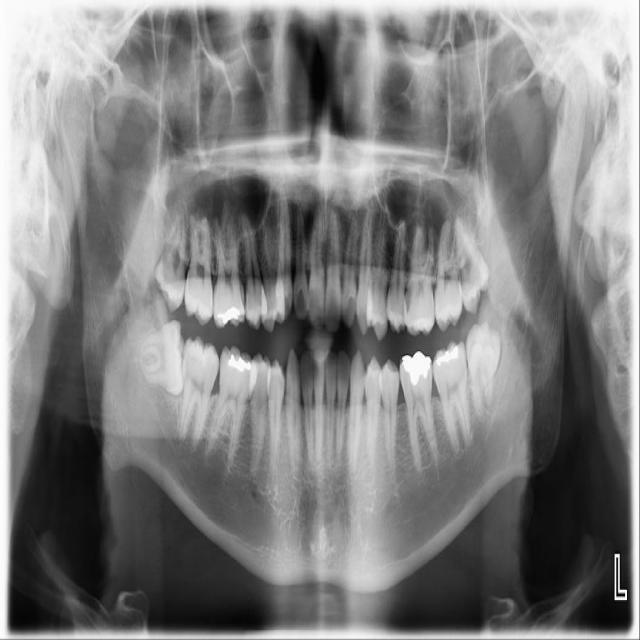Filling: (402, 352, 430, 384), (225, 350, 254, 372), (433, 345, 463, 365), (217, 303, 242, 323)
impacted tooth: (466, 323, 502, 427), (136, 320, 183, 392)
